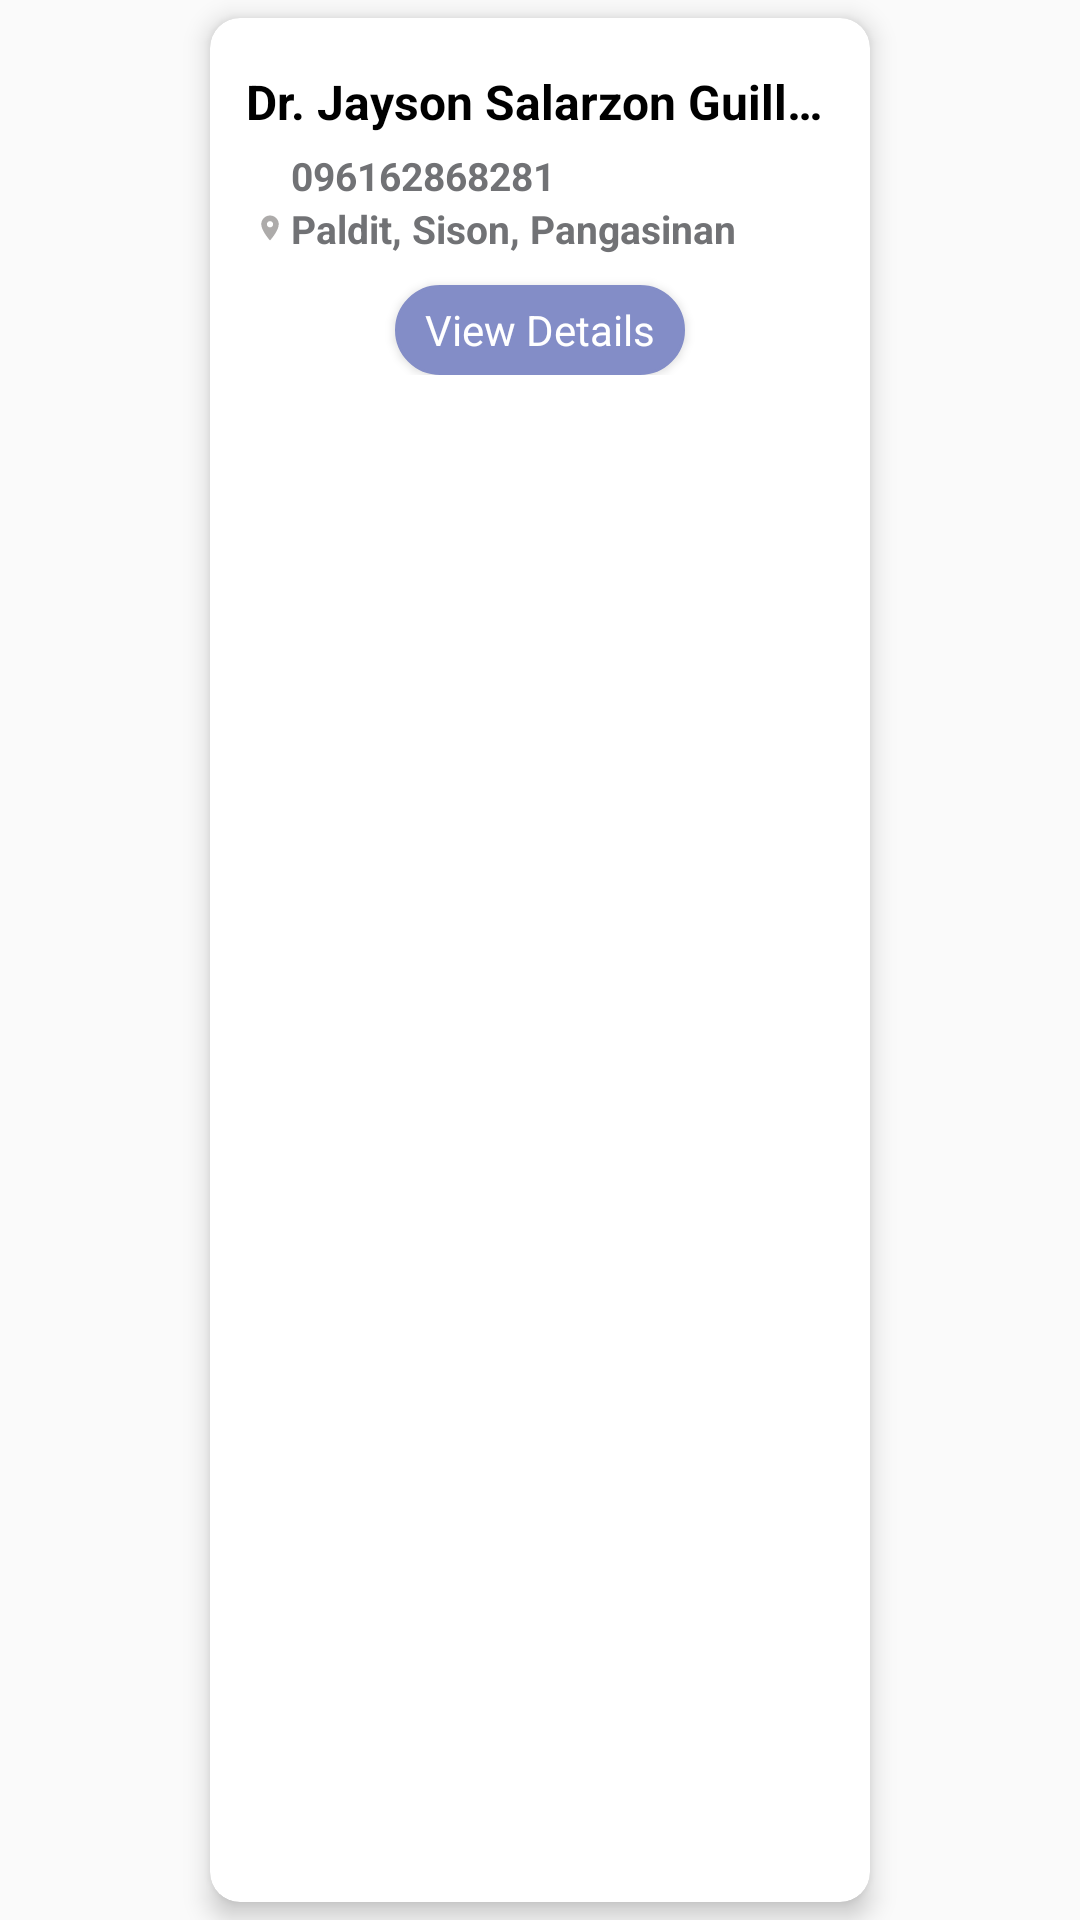

Screen size 1080w x 1920h. Icon name, then its box in pixels as (x1, y1, x2, y2):
location: (261, 215, 279, 240)
